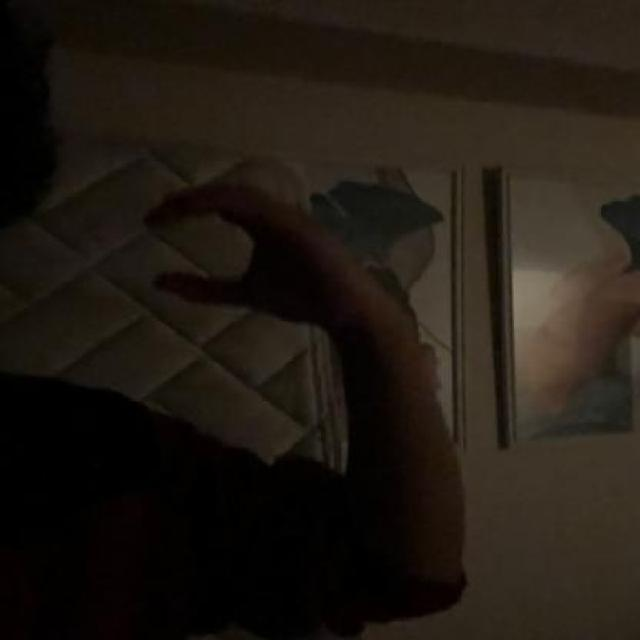C: (129, 173, 382, 332)
